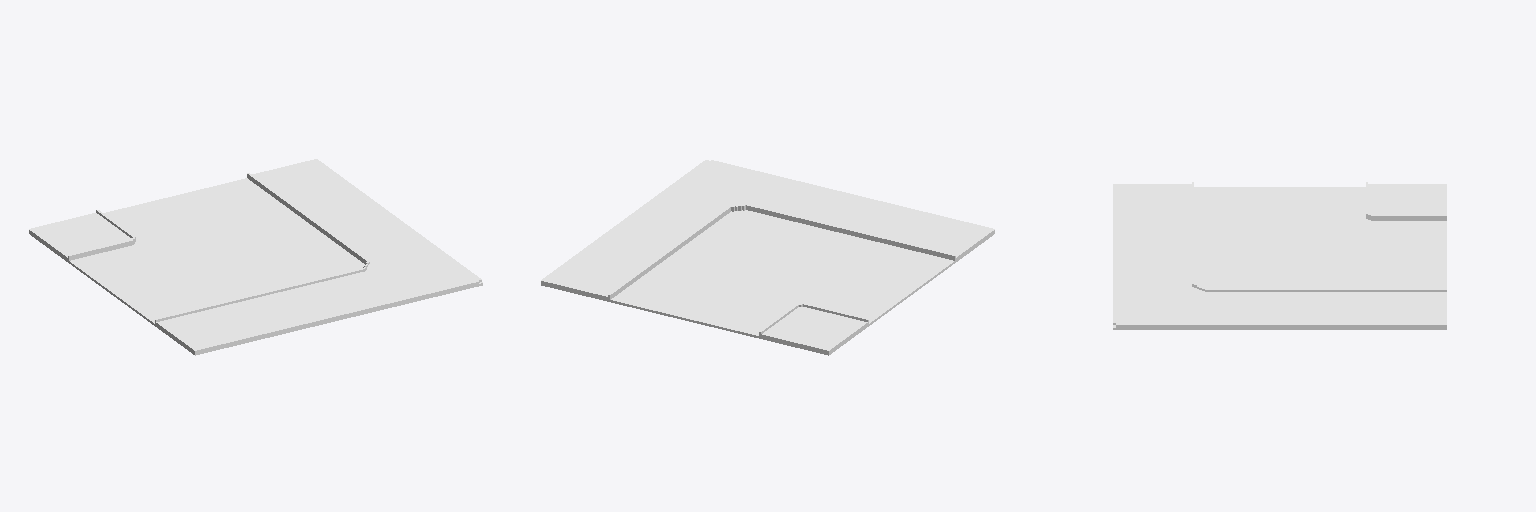
File: GDS2_Flooring-9.obj
3 renders of one model, left to right at view 1: azimuth 30°, elevation 25°; view 2: azimuth 150°, elevation 25°; view 3: azimuth 270°, elevation 25°, orthographic.
Visible parts, largest first — view 1: GDS2_Flooring-9; view 2: GDS2_Flooring-9; view 3: GDS2_Flooring-9.
Part boxes in pixels (x1,y1,x2,y2): GDS2_Flooring-9: (29,159,482,355); GDS2_Flooring-9: (541,160,994,355); GDS2_Flooring-9: (1113,182,1446,329).
Bounding box in the file's own units: 12.8 × 0.3 × 12.8.